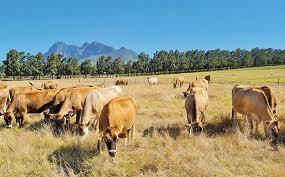cow: (232, 84, 280, 142), (72, 86, 123, 138), (98, 95, 137, 156), (0, 91, 57, 129), (184, 93, 208, 136), (189, 79, 208, 92), (41, 80, 59, 89), (170, 77, 184, 88), (146, 76, 159, 86), (115, 78, 129, 86)
